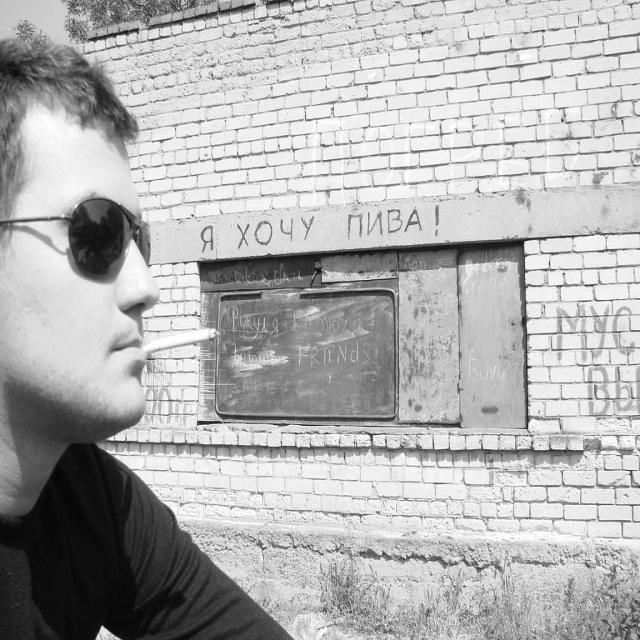rokok: (140, 328, 220, 352)
